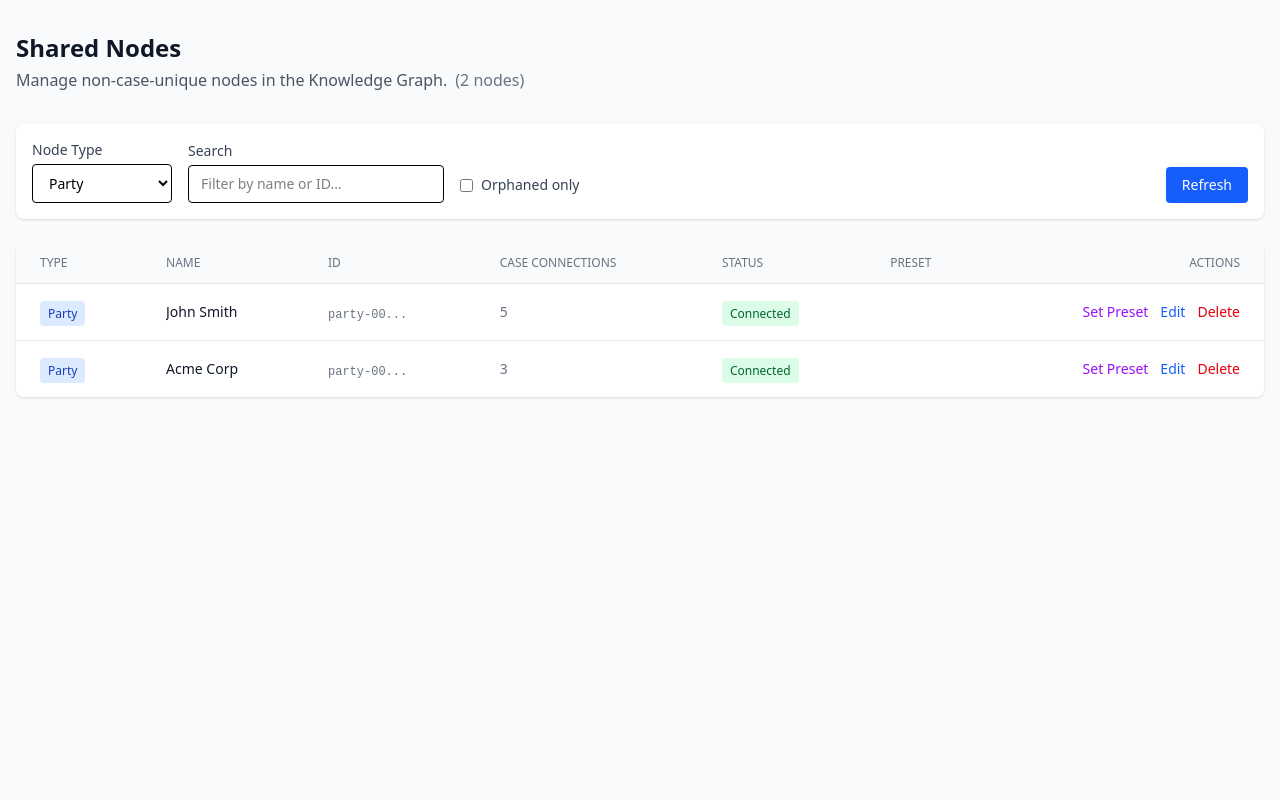
Test: SharedNodesPage › Edit Modal › closes edit modal on Cancel
expect the text "John Smith" is shown: met, box left=166, top=302, right=237, bottom=321
Click the button "Edit" in the row of "John Smith": (1173, 312) left=1160, top=302, right=1186, bottom=322
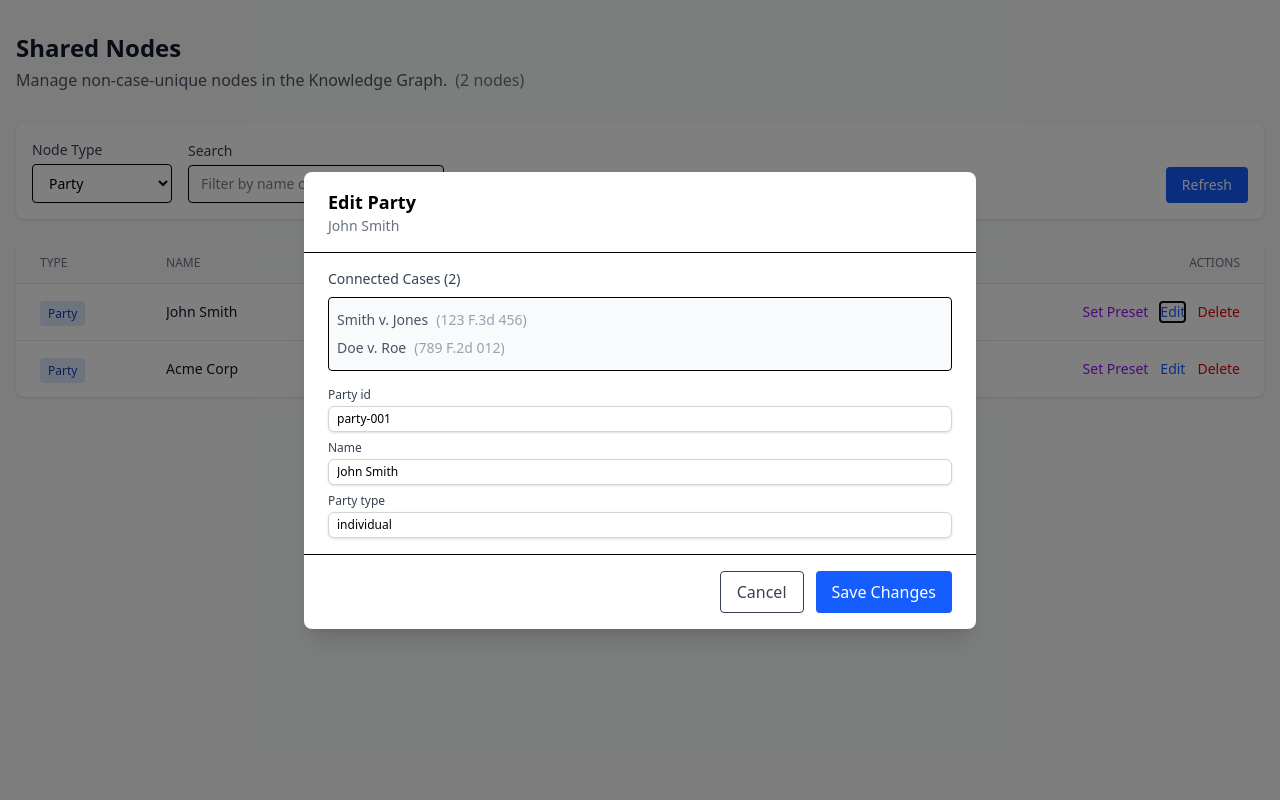
expect the heading "Edit Party" is shown: met, box left=328, top=190, right=416, bottom=214
Click the button "Cancel": (762, 592) left=720, top=570, right=804, bottom=612
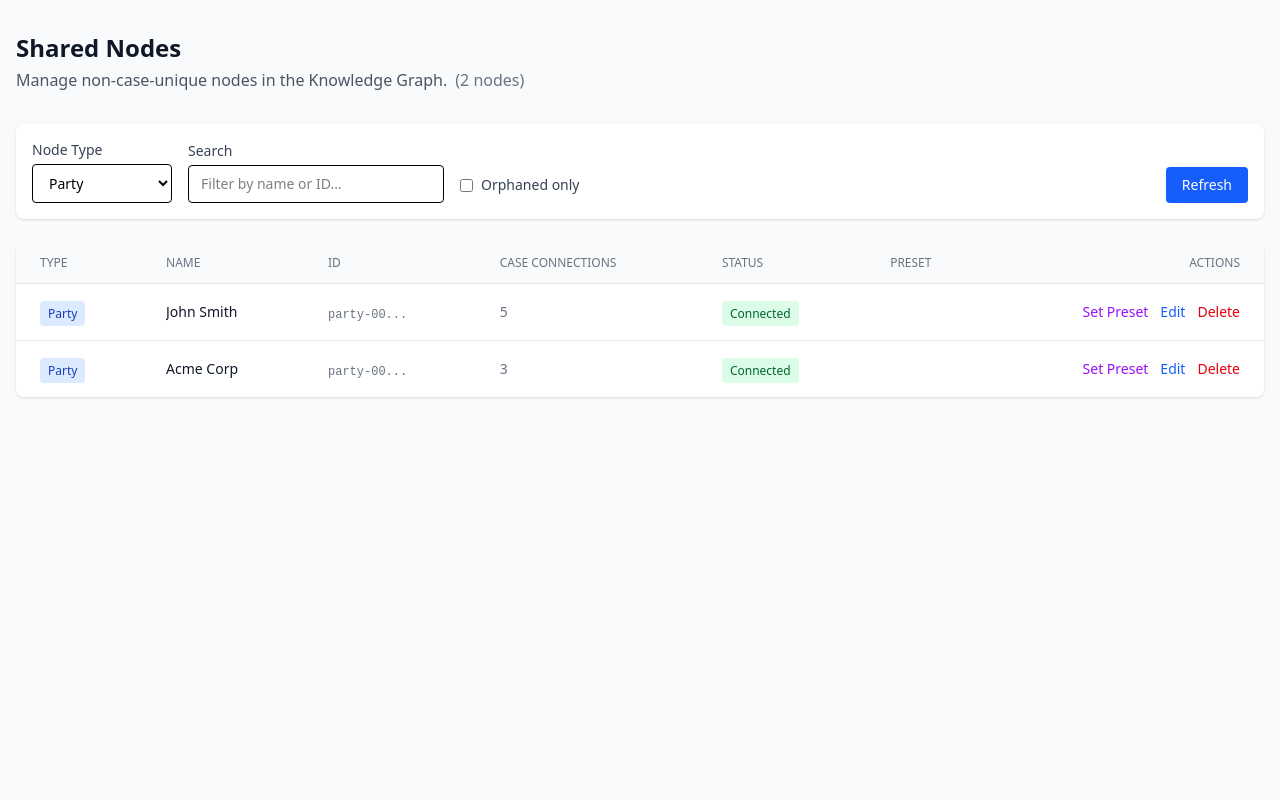
expect the heading "Edit Party" is gone: met
